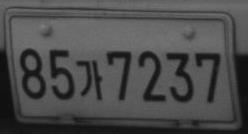2: (137, 50, 166, 102)
3: (166, 51, 194, 103)
5: (49, 48, 75, 100)
7: (194, 52, 221, 103), (106, 50, 131, 101)
8: (18, 47, 46, 99)
가: (76, 59, 104, 100)
